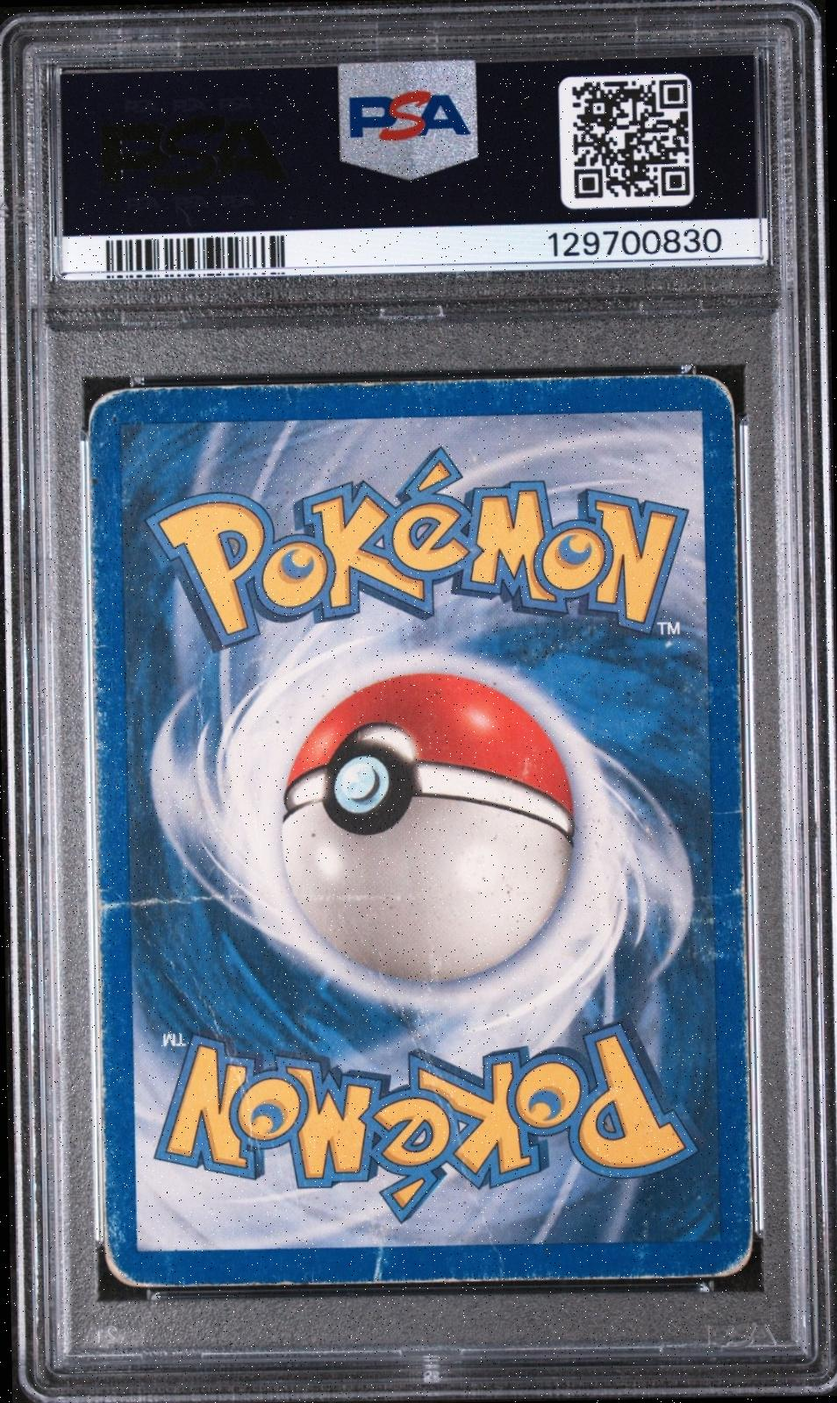card-2UtV: (87, 373, 753, 1288)
